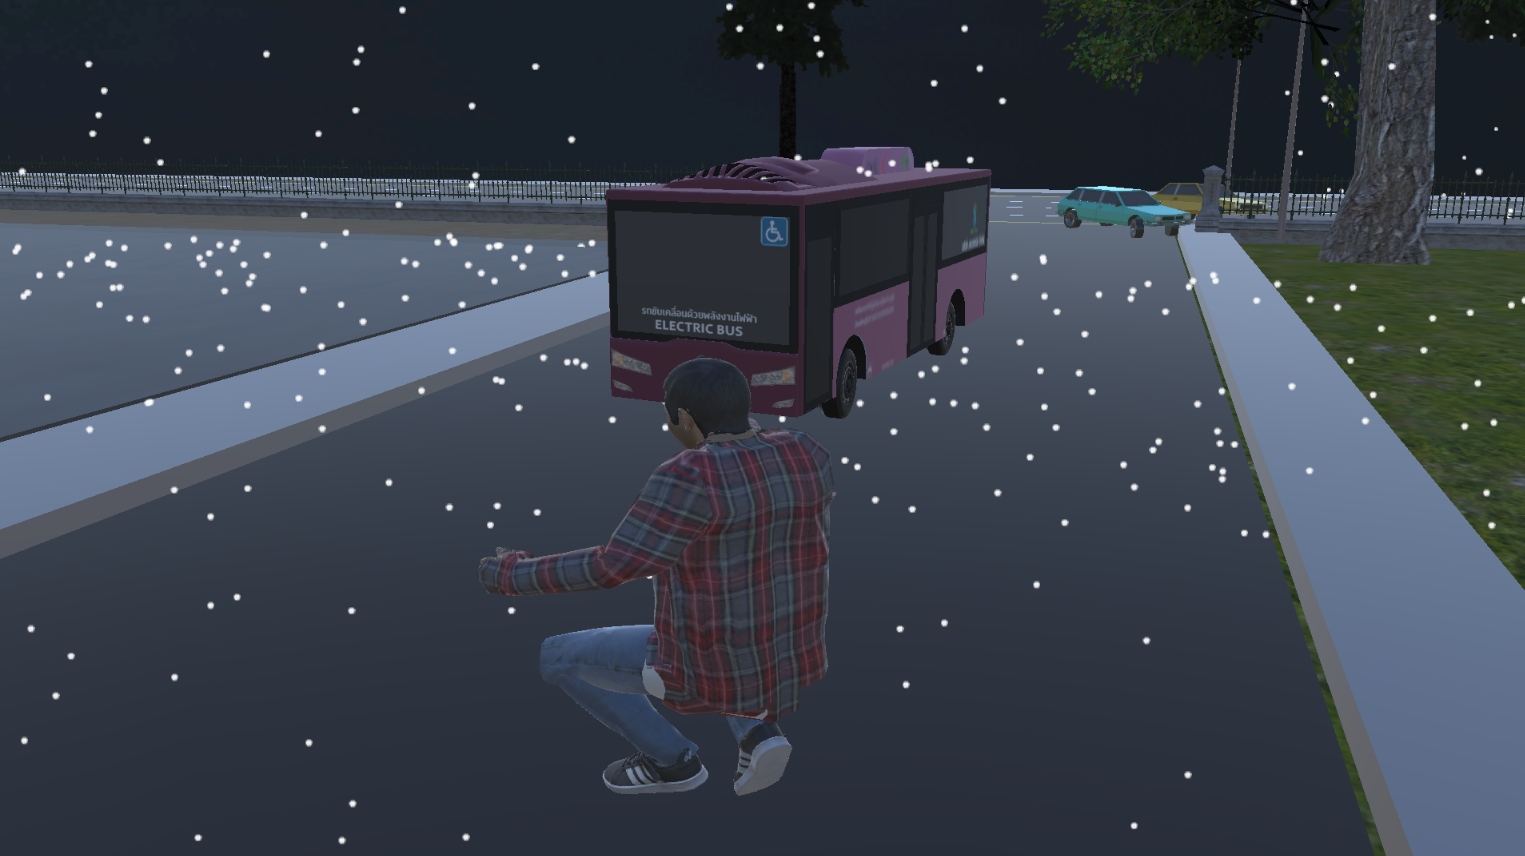pedestrian: (471, 344, 844, 834)
